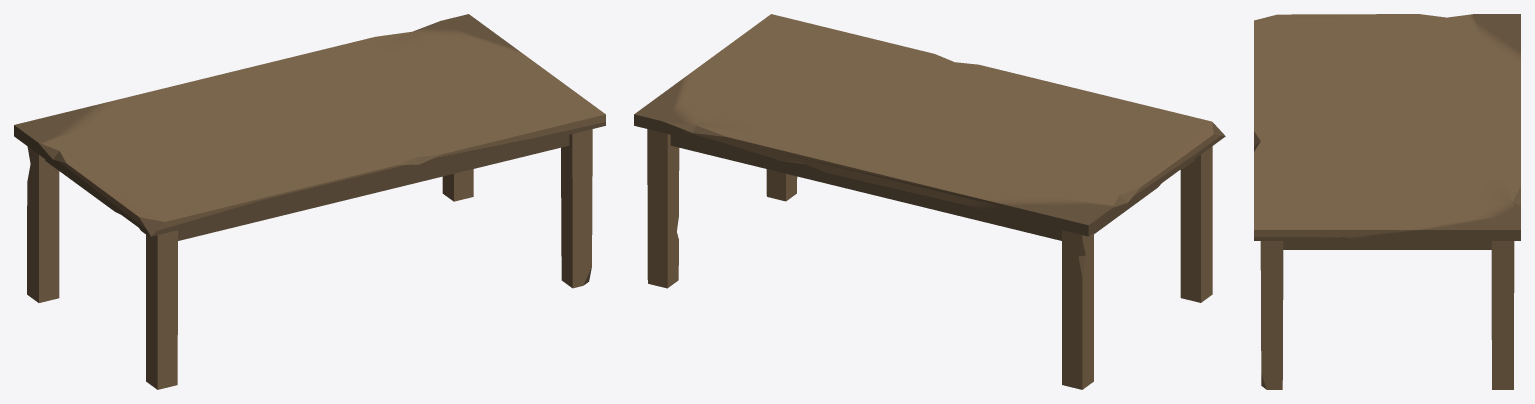
Rendered from Prop_Table_01.glb.
3 views of the same model, side by side, from view 1: azimuth 30°, elevation 25°; view 2: azimuth 150°, elevation 25°; view 3: azimuth 270°, elevation 25° (orthographic). The views are drawn at different scales.
Parts seen in each view (by area): view 1: SM_Gen_Prop_Table_01; view 2: SM_Gen_Prop_Table_01; view 3: SM_Gen_Prop_Table_01.
Part boxes in pixels (box(x1,y1,x2,y2)): SM_Gen_Prop_Table_01: box(14, 14, 605, 389); SM_Gen_Prop_Table_01: box(634, 14, 1225, 389); SM_Gen_Prop_Table_01: box(1254, 14, 1520, 389).
Bounding box in the file's own units: 2.1 × 0.75 × 1.1.
1 material, 1 textured.
